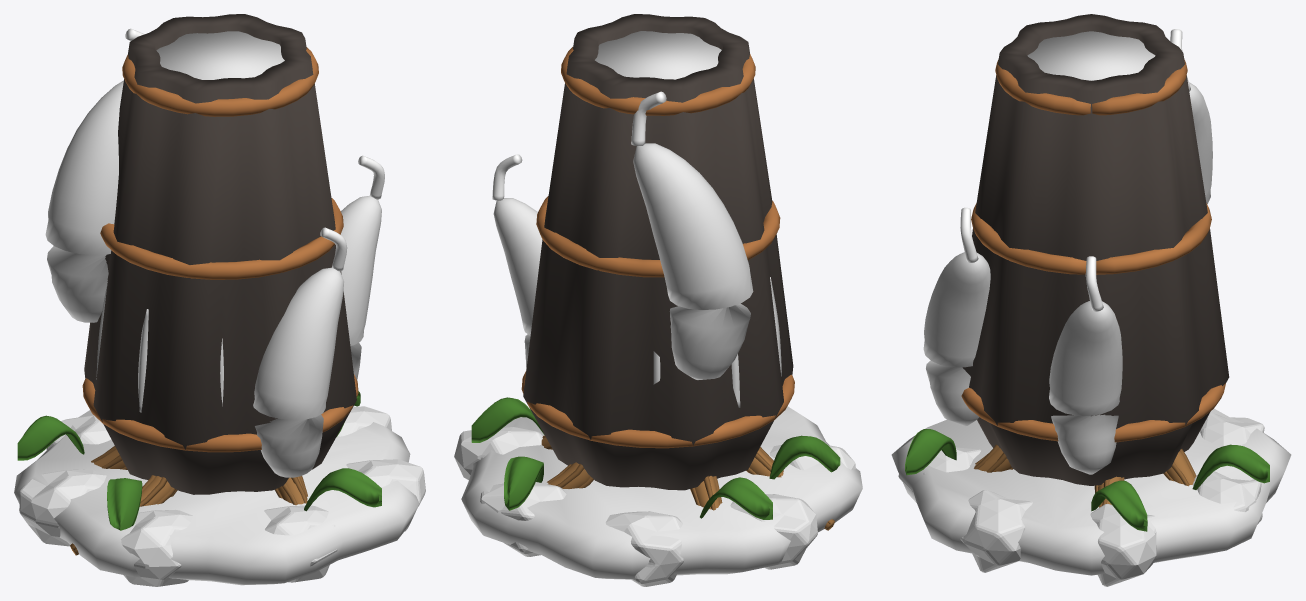
The model's file is chili-2.fbx.
3 renders of one model, left to right at view 1: azimuth 30°, elevation 25°; view 2: azimuth 150°, elevation 25°; view 3: azimuth 270°, elevation 25°, orthographic. The views are drawn at different scales.
Parts seen in each view (by area): view 1: Turret_Metal, Pods_PortalPeel, EarthBed, chili-2_Stone, Core_Glow, chili-2_PortalBamboo, chili-2_Bark, Pods_PortalBamboo; view 2: Turret_Metal, EarthBed, Pods_PortalPeel, chili-2_Stone, chili-2_PortalBamboo, Core_Glow, chili-2_Bark, Pods_PortalBamboo; view 3: Turret_Metal, EarthBed, Pods_PortalPeel, chili-2_Stone, chili-2_PortalBamboo, Core_Glow, chili-2_Bark, Pods_PortalBamboo.
Boxes of the visible parts, x1,y1,x2,y2 form: Turret_Metal: (82,14,358,494); Pods_PortalPeel: (45,80,381,477); EarthBed: (14,410,419,585); chili-2_Stone: (19,406,425,586); Core_Glow: (96,31,284,412); chili-2_PortalBamboo: (17,391,381,530); chili-2_Bark: (70,446,307,555); Pods_PortalBamboo: (125,28,384,271); Turret_Metal: (521,14,794,490); EarthBed: (461,406,862,579); Pods_PortalPeel: (493,143,753,379); chili-2_Stone: (454,427,855,586); chili-2_PortalBamboo: (471,397,840,519); Core_Glow: (595,31,781,407); chili-2_Bark: (541,435,834,530); Pods_PortalBamboo: (492,91,666,200); Turret_Metal: (961,14,1229,485); EarthBed: (891,408,1291,575); Pods_PortalPeel: (923,82,1212,474); chili-2_Stone: (898,412,1264,586); chili-2_PortalBamboo: (905,429,1269,531); Core_Glow: (1027,31,1155,80); chili-2_Bark: (974,444,1196,507); Pods_PortalBamboo: (960,29,1190,311).
Bounding box in the file's own units: 83.98 × 106 × 82.7.
